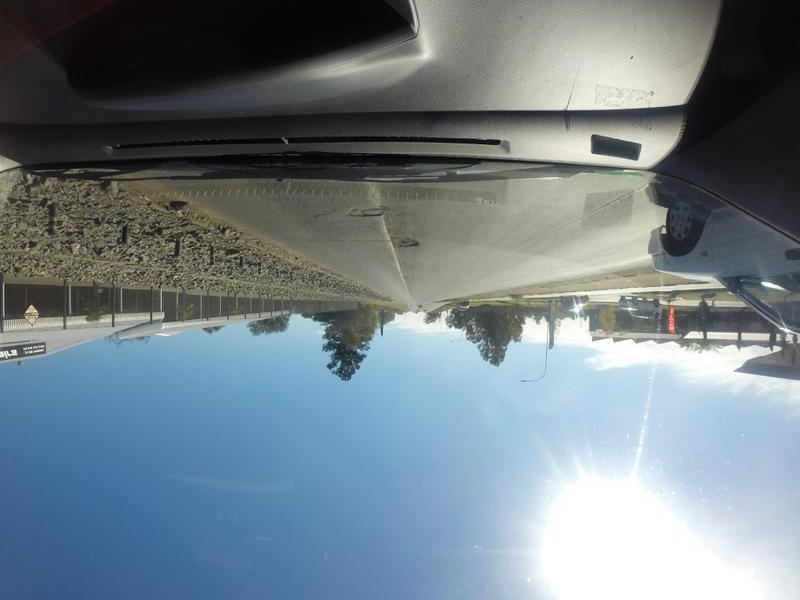pothole: (352, 205, 391, 219), (395, 236, 421, 250)
